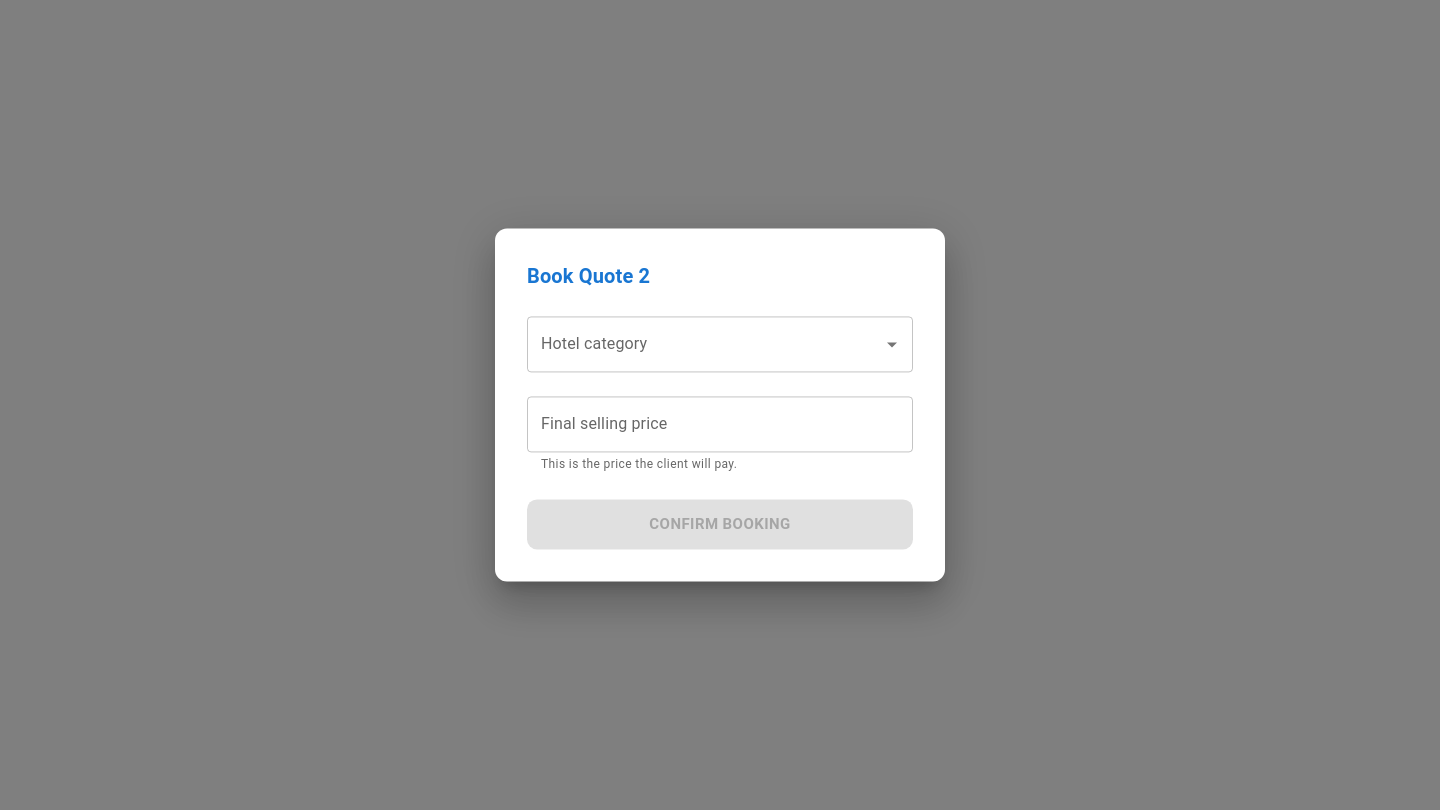
Test case: booking a quote › only the categories this quote was priced in are offered
Step 1. Press the mouse on the dropdown labelled "Hotel category" → (705,344), box [536,325,874,363]
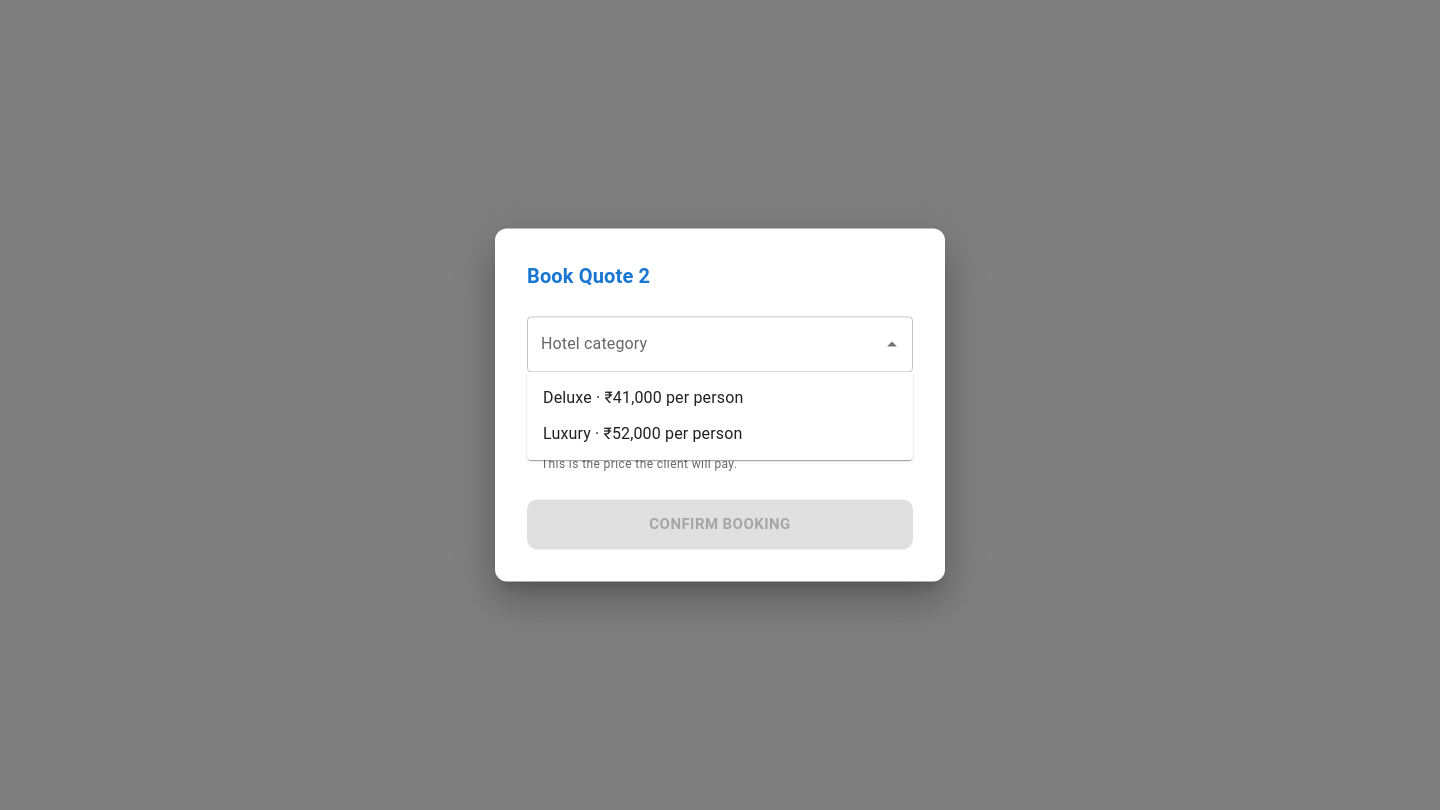
Expected: the options read "Deluxe · ₹41,000 per person", "Luxury · ₹52,000 per person", in this order, [543,388,744,407]; [543,424,742,443]
